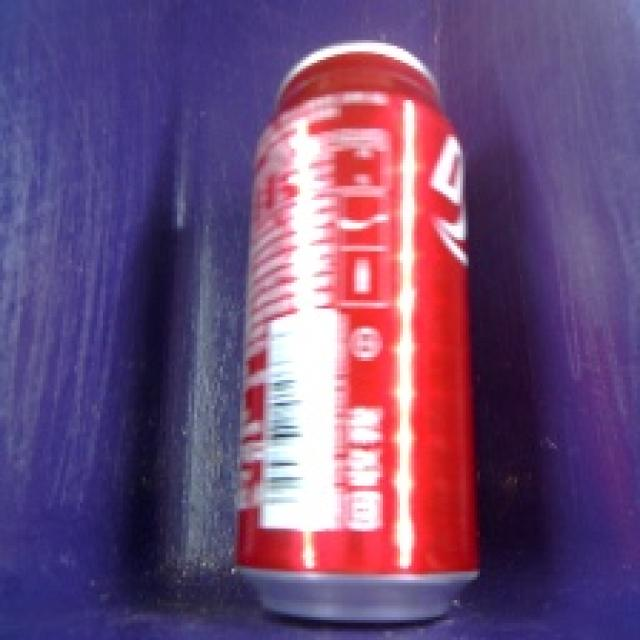metal: (223, 30, 495, 637)
